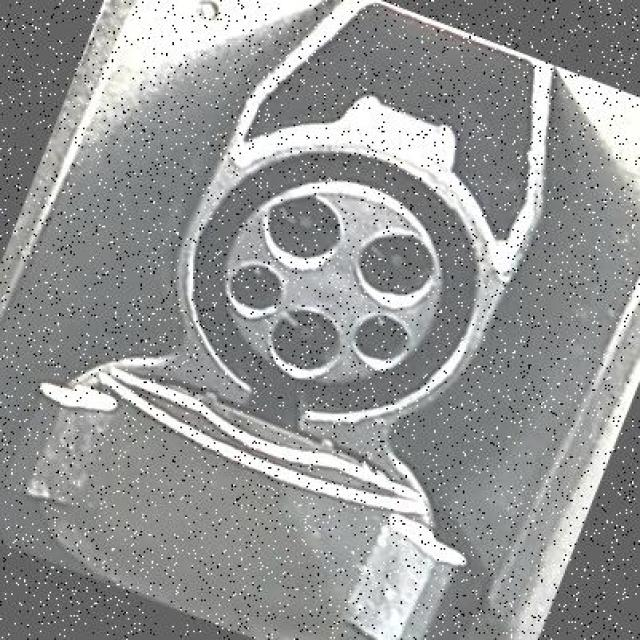Type 1: (190, 152, 494, 403)
